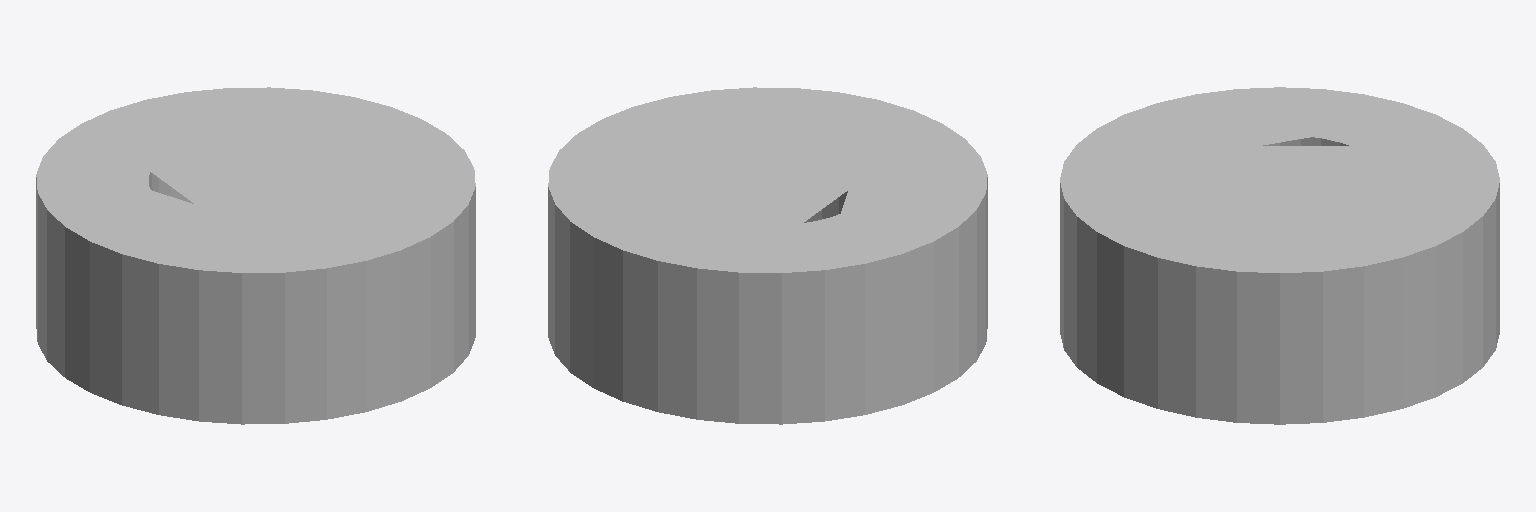
The model's file is police_tape.obj.
3 views of the same model, side by side, from view 1: azimuth 30°, elevation 25°; view 2: azimuth 150°, elevation 25°; view 3: azimuth 270°, elevation 25° (orthographic).
Visible parts, largest first — view 1: tape; view 2: tape; view 3: tape.
Boxes of the visible parts, <box> form: tape: <box>36,87,475,424</box>; tape: <box>548,87,987,424</box>; tape: <box>1060,87,1499,424</box>.
Bounding box in the file's own units: 2.07 × 0.7866 × 2.07.